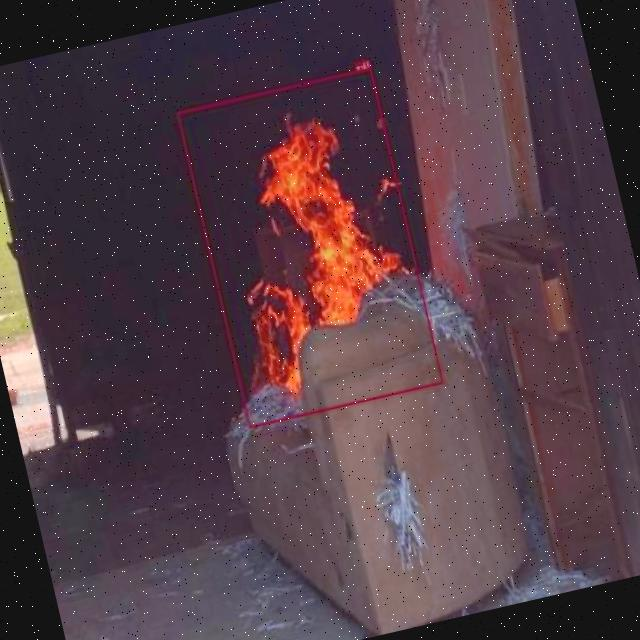fire: (176, 66, 444, 428)
